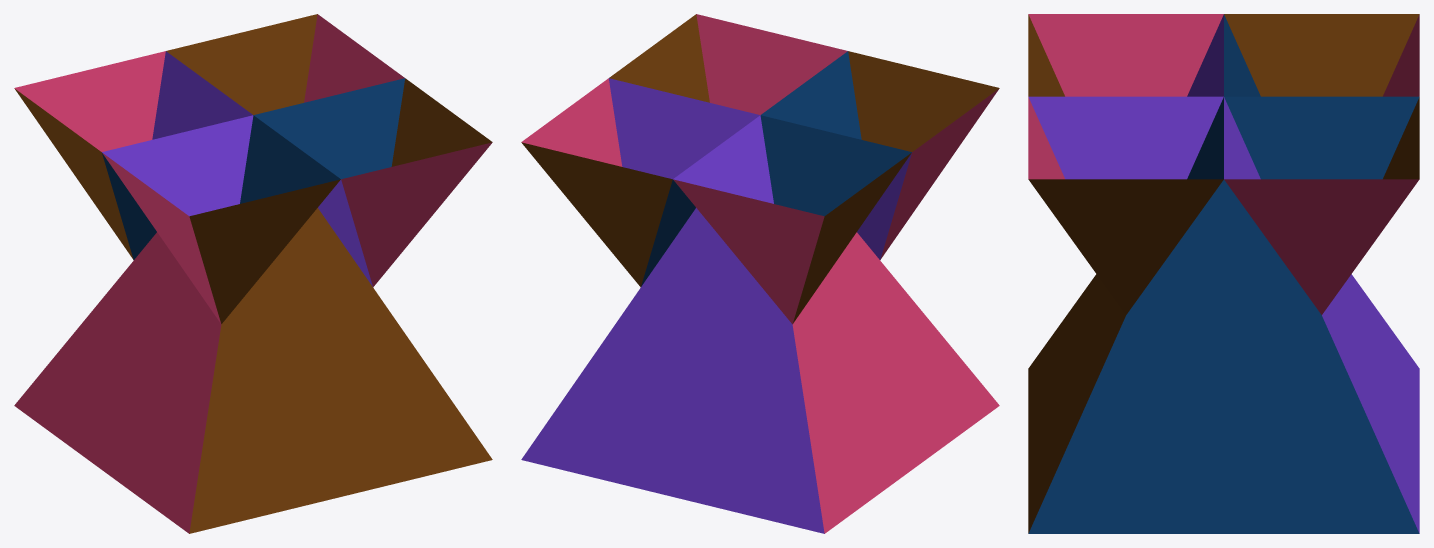
File: zeometry-sculptural-pyramid-hourglass_v1.glb
3 renders of one model, left to right at view 1: azimuth 30°, elevation 25°; view 2: azimuth 150°, elevation 25°; view 3: azimuth 270°, elevation 25°, orthographic. The views are drawn at different scales.
Parts seen in each view (by area): view 1: Pyramid Hourglass; view 2: Pyramid Hourglass; view 3: Pyramid Hourglass.
Part boxes in pixels (x1,y1,x2,y2): Pyramid Hourglass: (14, 14, 492, 533); Pyramid Hourglass: (521, 14, 999, 533); Pyramid Hourglass: (1028, 14, 1419, 533).
Size of the model in its own units: 0.5 by 0.5 by 0.5.
